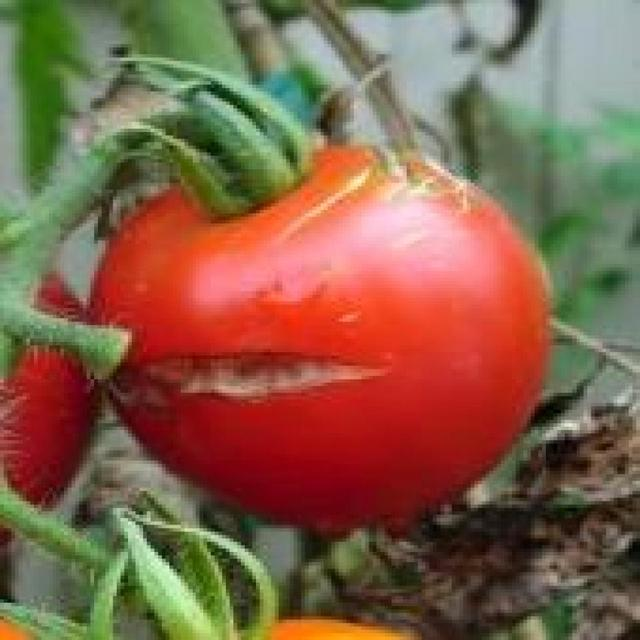Cracking Fruit: (68, 44, 218, 248)
